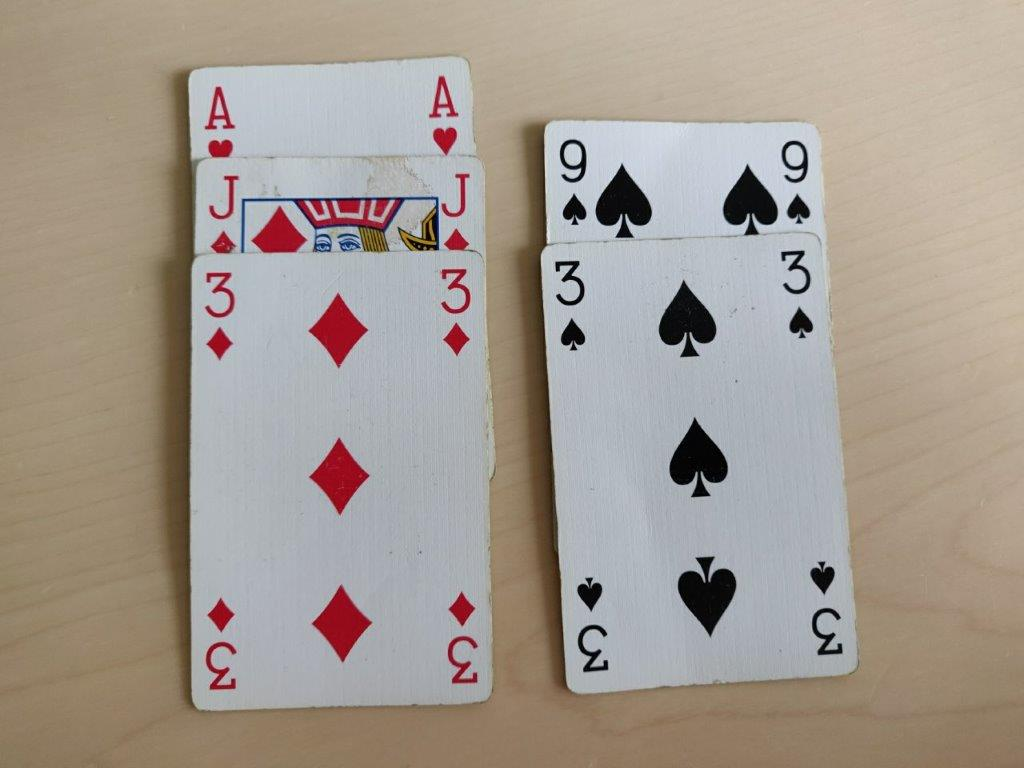3D: (435, 264, 477, 358), (200, 266, 238, 366)
3S: (546, 256, 591, 353), (776, 245, 818, 343)
9S: (776, 137, 815, 230), (555, 135, 591, 229)
AH: (422, 71, 463, 159)
